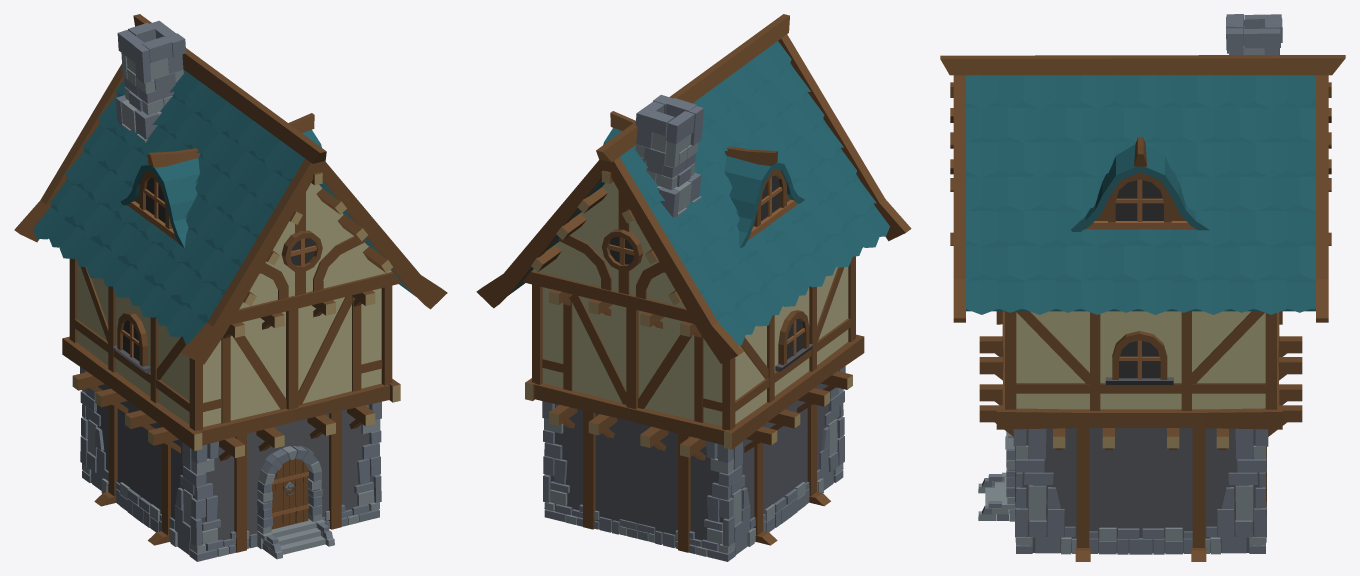
Rendered from House_1.glb.
3 renders of one model, left to right at view 1: azimuth 30°, elevation 25°; view 2: azimuth 150°, elevation 25°; view 3: azimuth 270°, elevation 25°, orthographic. The views are drawn at different scales.
Parts seen in each view (by area): view 1: House_1; view 2: House_1; view 3: House_1.
Part boxes in pixels (x1,y1,x2,y2): House_1: (14,14,447,561); House_1: (476,14,911,561); House_1: (940,14,1345,561).
Bounding box in the file's own units: 2.14 × 3.39 × 2.66.
